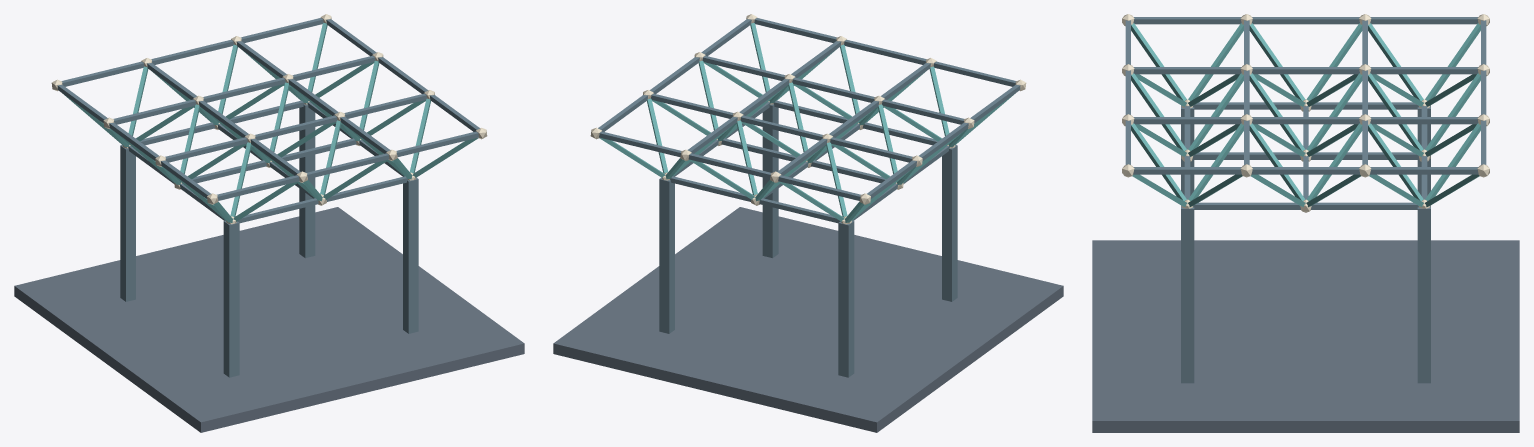
The model's file is sample.glb.
The picture shows the model from 3 angles, left to right: view 1: azimuth 30°, elevation 25°; view 2: azimuth 150°, elevation 25°; view 3: azimuth 270°, elevation 25°; orthographic projection. The views are drawn at different scales.
Visible parts, largest first — view 1: DISPLAY_plinth, support_column, support_column.001, support_column.003, support_column.002, upper_chord, upper_chord.007, upper_chord.006, upper_chord.014, upper_chord.011, upper_chord.009, upper_chord.020 (+11 smaller); view 2: DISPLAY_plinth, support_column.003, support_column.002, support_column, support_column.001, upper_chord.006, upper_chord.013, upper_chord, upper_chord.020, upper_chord.009, upper_chord.011, upper_chord.014 (+11 smaller); view 3: DISPLAY_plinth, support_column.001, support_column.002, upper_chord.021, upper_chord.023, upper_chord.022, upper_chord.008, upper_chord.012, upper_chord.015, upper_chord.019, upper_chord.003, upper_chord.010 (+29 smaller).
Part boxes in pixels (bbox=[...]): DISPLAY_plinth: bbox=[14, 207, 524, 432]; support_column: bbox=[223, 220, 239, 377]; support_column.001: bbox=[403, 177, 418, 333]; support_column.003: bbox=[120, 145, 135, 301]; support_column.002: bbox=[299, 104, 315, 258]; upper_chord: bbox=[217, 175, 299, 200]; upper_chord.007: bbox=[306, 153, 389, 178]; upper_chord.006: bbox=[61, 61, 144, 86]; upper_chord.014: bbox=[396, 131, 478, 156]; upper_chord.011: bbox=[203, 77, 285, 102]; upper_chord.009: bbox=[255, 115, 337, 140]; upper_chord.020: bbox=[241, 18, 323, 42]; DISPLAY_plinth: bbox=[553, 207, 1063, 432]; support_column.003: bbox=[838, 220, 854, 377]; support_column.002: bbox=[659, 177, 674, 333]; support_column: bbox=[942, 145, 957, 301]; support_column.001: bbox=[762, 104, 778, 258]; upper_chord.006: bbox=[778, 175, 860, 200]; upper_chord.013: bbox=[688, 153, 771, 178]; upper_chord: bbox=[933, 61, 1016, 86]; upper_chord.020: bbox=[599, 131, 681, 156]; upper_chord.009: bbox=[792, 77, 874, 102]; upper_chord.011: bbox=[740, 115, 822, 140]; upper_chord.014: bbox=[754, 18, 836, 42]; DISPLAY_plinth: bbox=[1092, 240, 1519, 432]; support_column.001: bbox=[1181, 205, 1194, 383]; support_column.002: bbox=[1417, 205, 1430, 383]; upper_chord.021: bbox=[1133, 167, 1241, 174]; upper_chord.023: bbox=[1370, 167, 1478, 174]; upper_chord.022: bbox=[1251, 167, 1360, 174]; upper_chord.008: bbox=[1133, 67, 1241, 74]; upper_chord.012: bbox=[1370, 67, 1478, 74]; upper_chord.015: bbox=[1133, 117, 1241, 124]; upper_chord.019: bbox=[1370, 117, 1478, 124]; upper_chord.003: bbox=[1252, 17, 1359, 24]; upper_chord.010: bbox=[1252, 67, 1359, 74].
Bounding box in the file's own units: 5.78 × 3.78 × 5.77.
